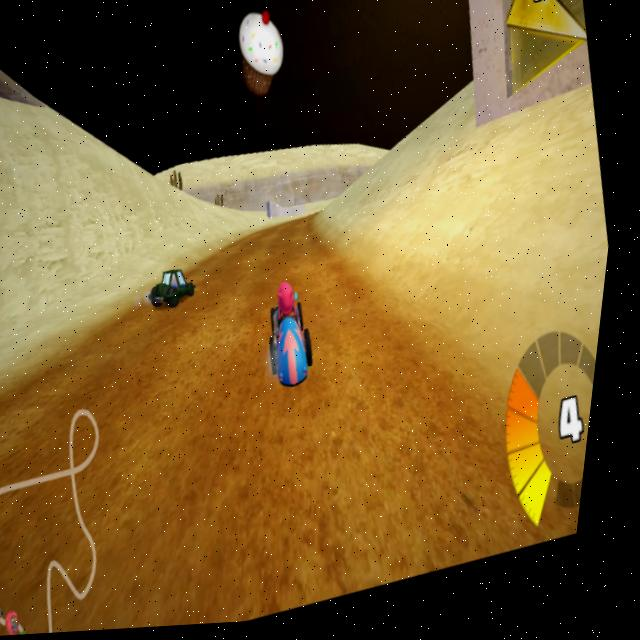enemy_kart: (147, 259, 216, 320)
off_track: (353, 114, 610, 346)
player_kart: (256, 269, 343, 402)
track: (91, 294, 297, 478), (220, 214, 328, 279)
